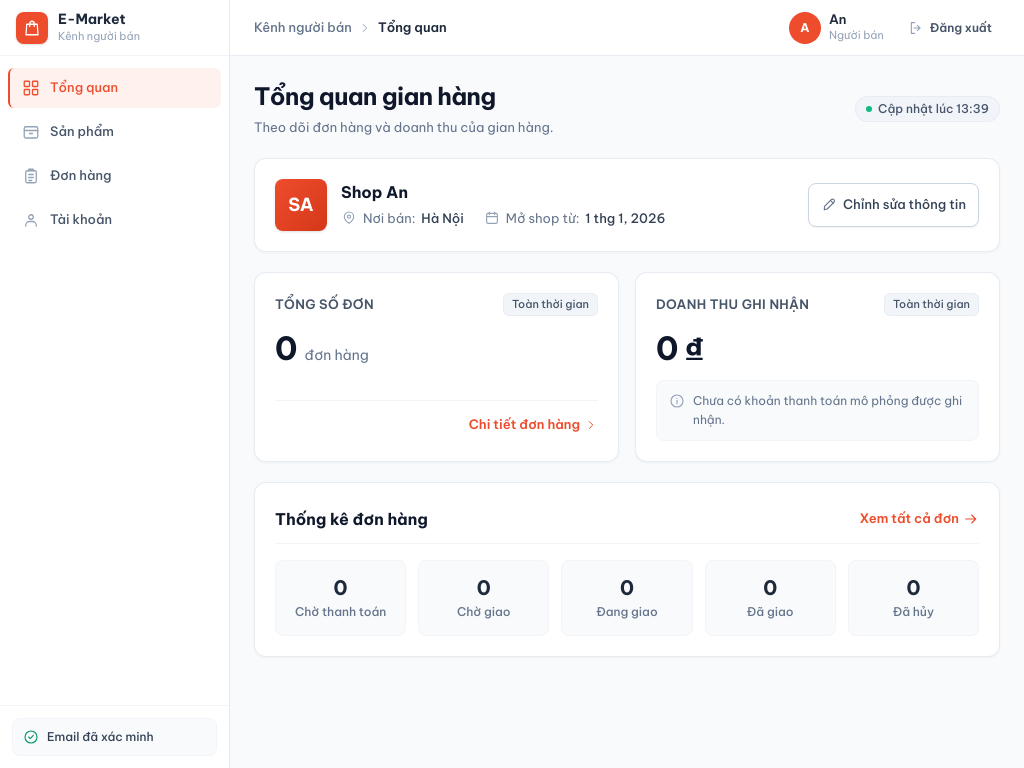
it: Tổng quan shop › lưu thông tin shop và mở danh sách theo trạng thái từ thống kê
Click the button "Chỉnh sửa thông tin": {"x": 894, "y": 205} [808,183,979,227]
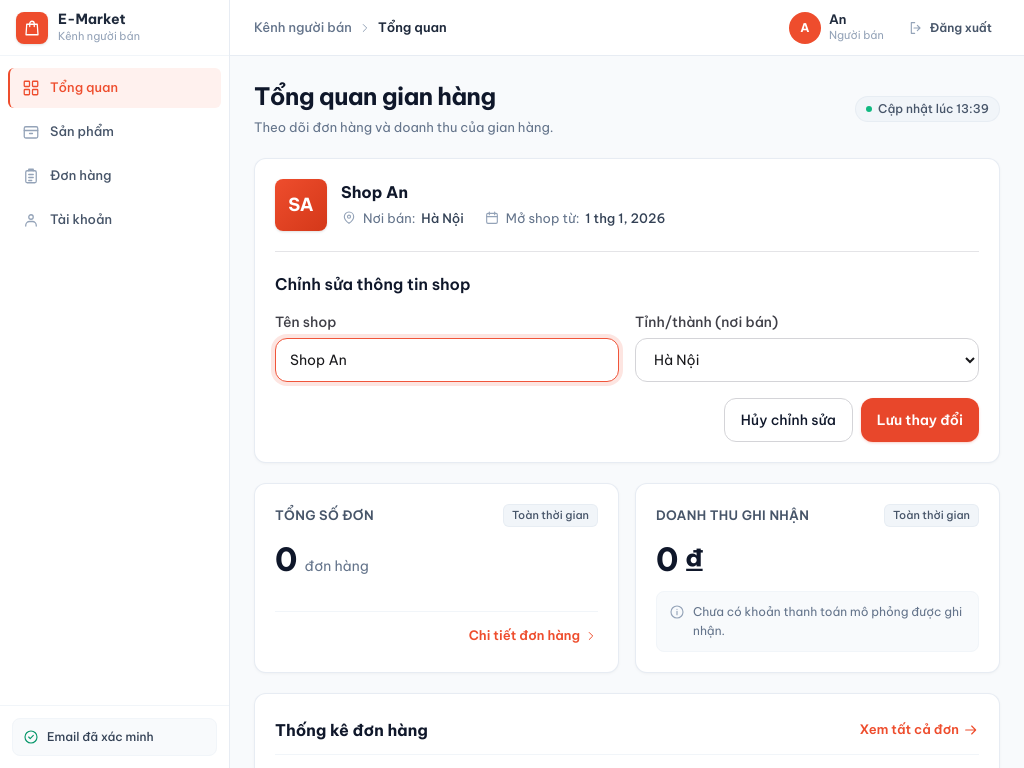
Replace the text in the field labelled "Tên shop" with "Shop An mới": {"x": 447, "y": 360} [275,338,619,382]
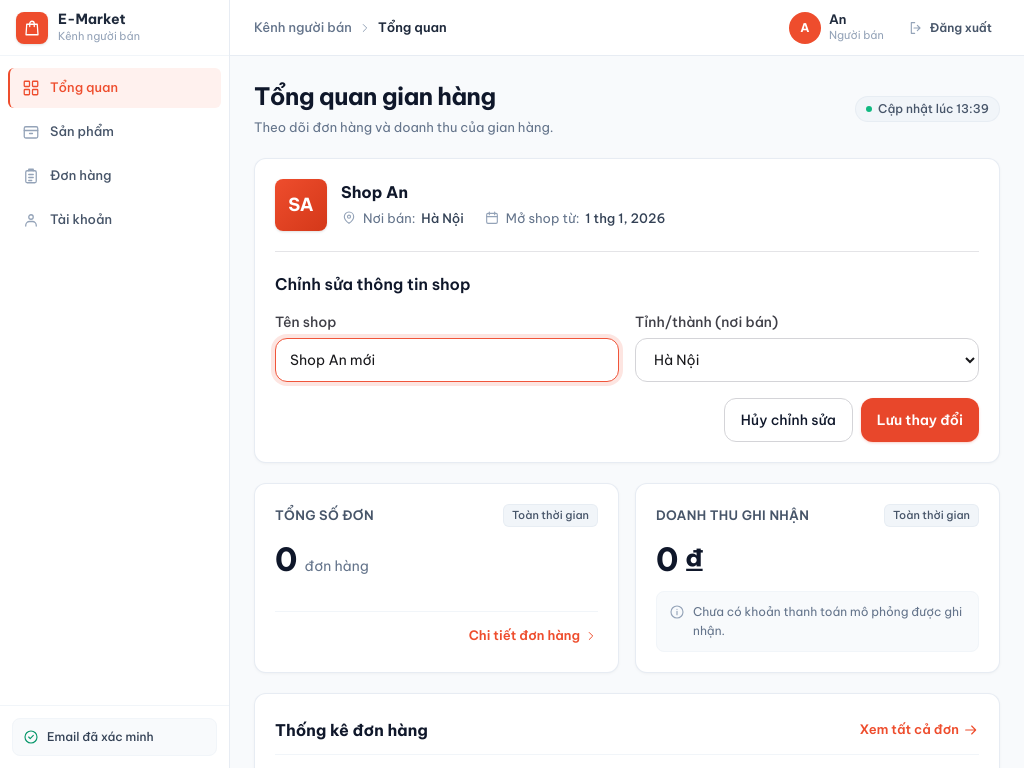
Select "TP. Hồ Chí Minh" in the dropdown labelled "Tỉnh/thành (nơi bán)": {"x": 807, "y": 360} [635,338,979,382]
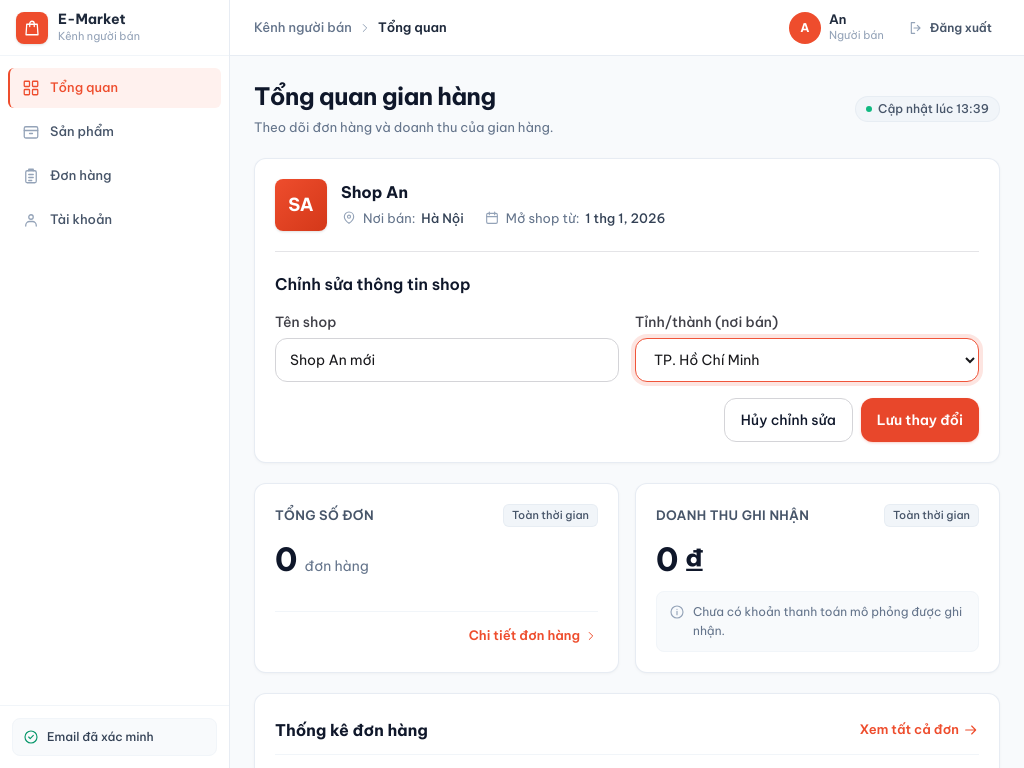
Click the button "Lưu thay đổi": {"x": 920, "y": 420} [861,398,979,442]
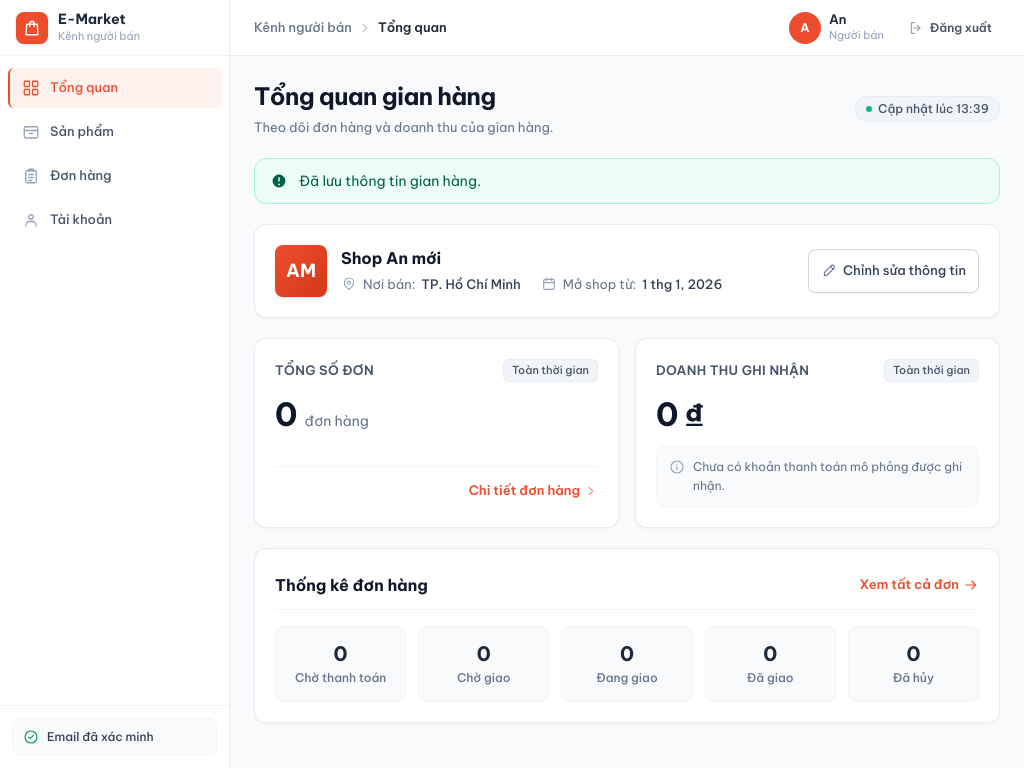
Expected: the heading "Shop An mới" is shown, [341,248,441,268]
Expected: the text "TP. Hồ Chí Minh" is shown, [421,274,521,294]
Click the link with aria-label "Chờ giao: 0 đơn": {"x": 484, "y": 664} [418,626,549,702]
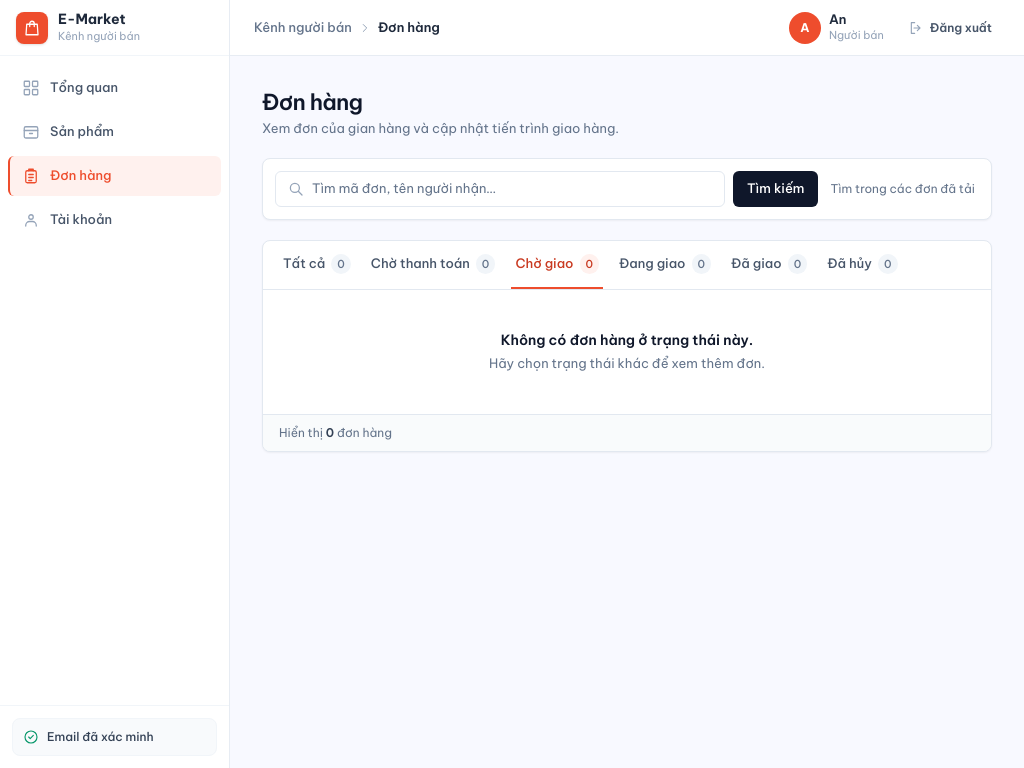
Expected: the text "Không có đơn hàng ở trạng thái này." is shown, [501,331,753,349]
